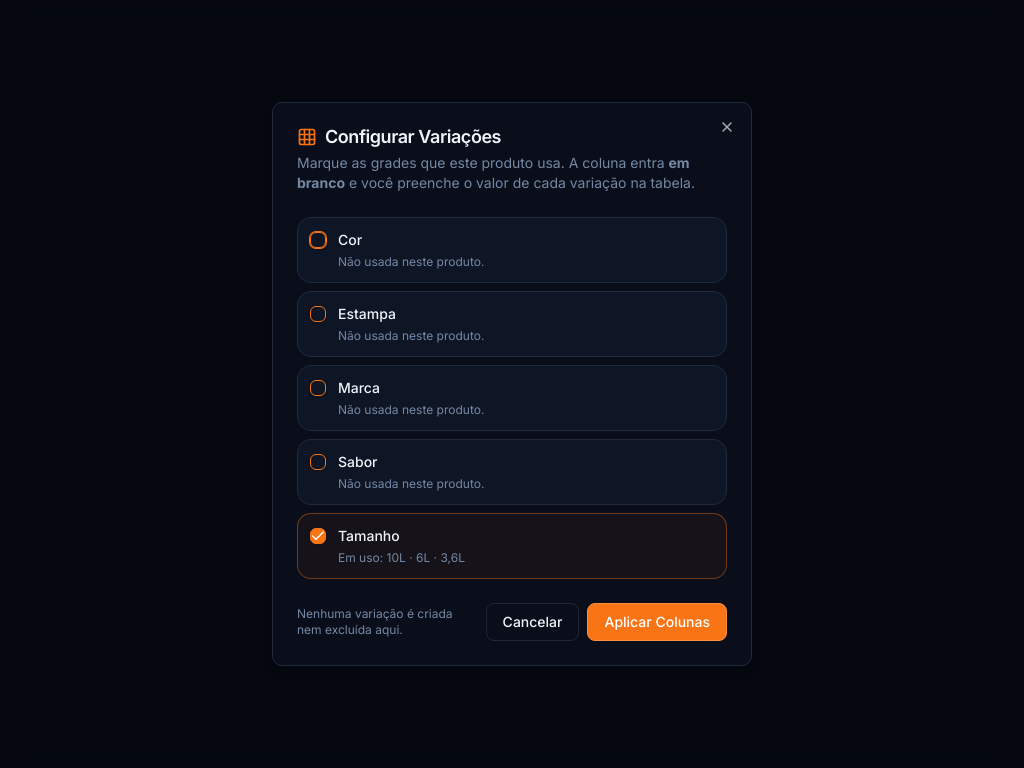
it: VariationColumnsForm › desmarcar avisa que a coluna e os valores dela somem
The width and height of the screenshot is (1024, 768).
Click the checkbox named "tamanho" next to "Tamanho" at (318, 536), box [310, 528, 326, 544]
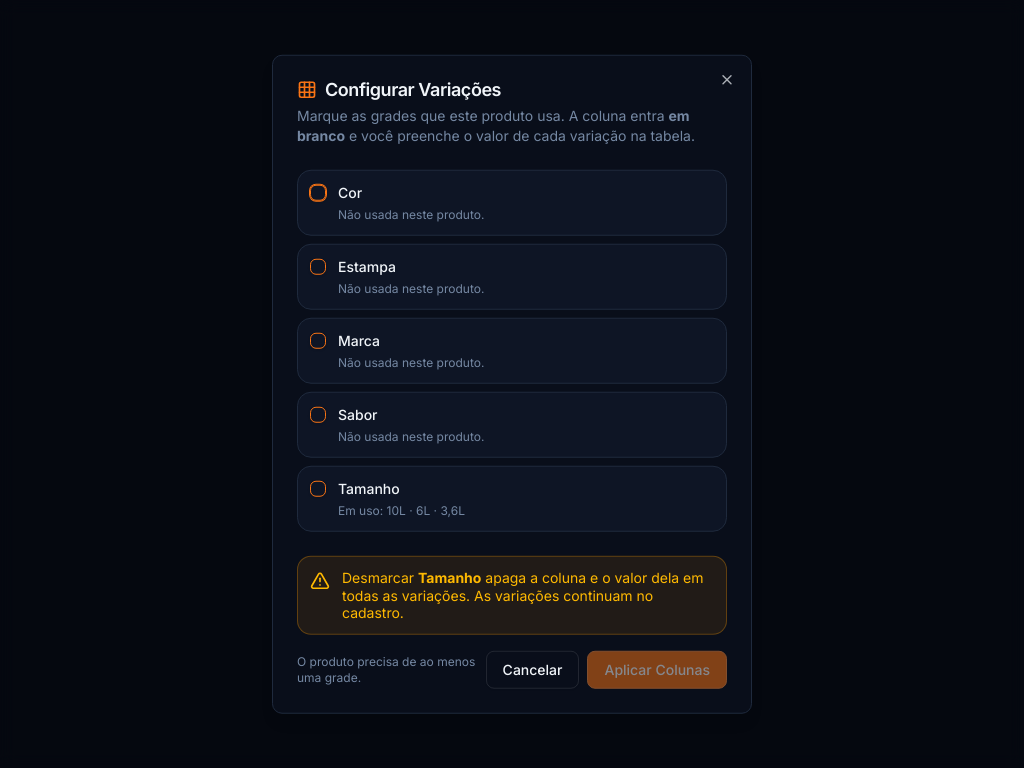
Expected: the text "apaga a coluna e o valor dela em todas as variações" is shown, [342, 569, 704, 621]
